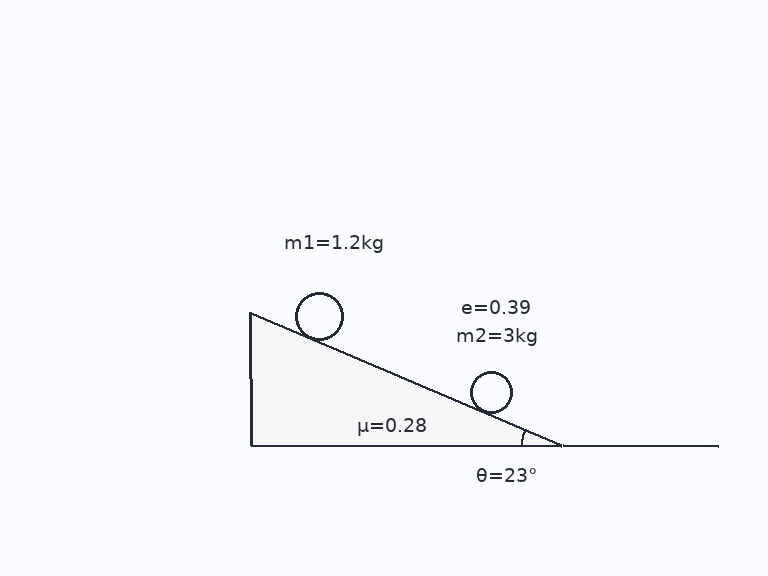ball: (293, 290, 345, 342), (468, 369, 514, 415)
ramp: (249, 311, 564, 447)
